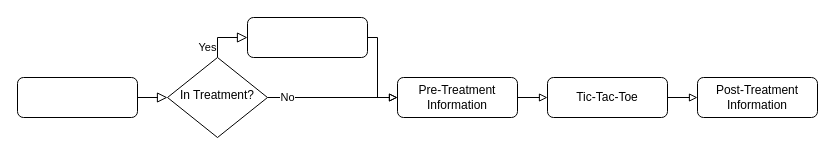
Image size: 835x155. Some labels were removed from this diagram. Here are the shapes that lost their labels. From the top down, the centre of each, then its label:
At pixel 307 37: "Audio Verification Page".
At pixel 77 97: "Landing Page".
